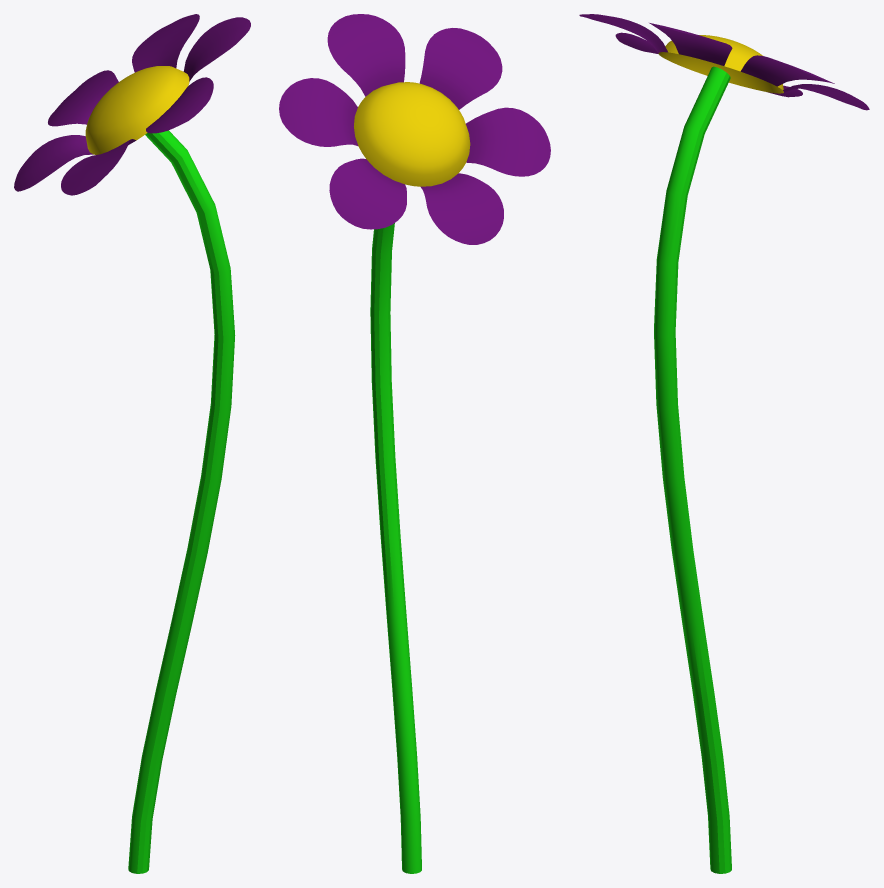
The model's file is ambient_nature_collection_flowers.dae.
3 views of the same model, side by side, from view 1: azimuth 30°, elevation 25°; view 2: azimuth 150°, elevation 25°; view 3: azimuth 270°, elevation 25° (orthographic). The views are drawn at different scales.
Visible parts, largest first — view 1: Stem; view 2: Stem; view 3: Stem.
Boxes of the visible parts, left/top/right/bottom form: Stem: left=14, top=14, right=250, bottom=873; Stem: left=279, top=14, right=550, bottom=873; Stem: left=579, top=14, right=869, bottom=873.
Size of the model in its own units: 0.1098 by 0.1322 by 0.4446.
